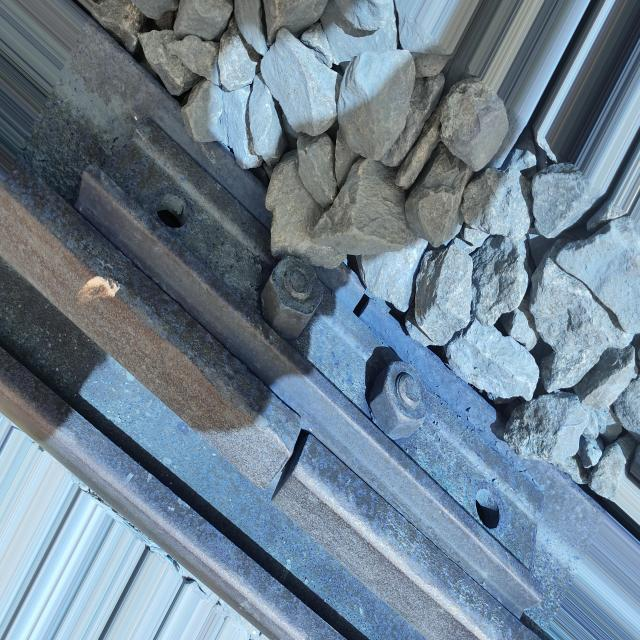Defective Joint: (75, 115, 544, 625)
